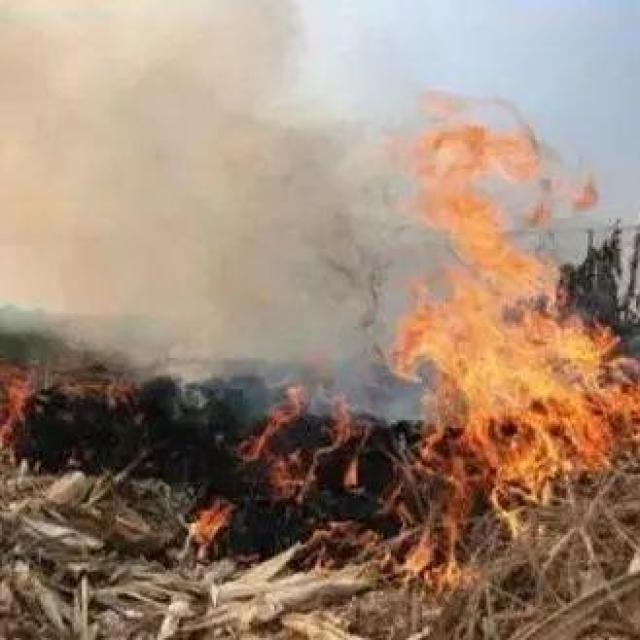fire: (356, 102, 636, 504)
